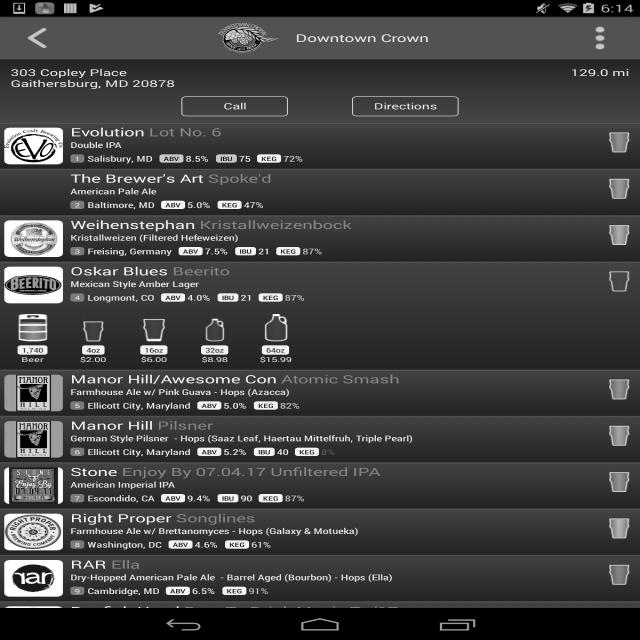Button: (181, 96, 288, 116), (352, 96, 459, 116)
ImageButton: (9, 23, 65, 53), (579, 23, 626, 53)
ImageView: (0, 59, 640, 608), (210, 23, 287, 53), (4, 220, 63, 257), (4, 421, 63, 458), (4, 467, 63, 504), (4, 560, 63, 597), (4, 128, 63, 164), (4, 267, 63, 303), (4, 375, 63, 411), (4, 514, 63, 550), (4, 606, 63, 640), (600, 124, 638, 154), (600, 170, 638, 200), (600, 216, 638, 246), (600, 262, 638, 292), (135, 312, 173, 342), (196, 312, 234, 342), (600, 370, 638, 400), (600, 417, 638, 447), (600, 464, 638, 494), (600, 510, 638, 540), (600, 556, 638, 586), (600, 602, 638, 632), (14, 312, 51, 342), (75, 312, 112, 342), (257, 312, 294, 342)
TextView: (11, 66, 443, 90), (71, 124, 598, 140), (71, 263, 598, 279), (71, 371, 598, 387), (71, 510, 598, 526), (71, 171, 598, 186), (71, 217, 598, 232), (71, 418, 598, 433), (71, 464, 598, 479), (71, 557, 598, 572), (71, 603, 598, 618), (70, 278, 593, 290), (70, 186, 593, 197), (70, 232, 593, 243), (70, 387, 593, 398), (70, 432, 593, 443), (70, 479, 593, 490), (70, 140, 593, 150), (70, 526, 593, 536), (70, 572, 593, 582), (444, 66, 629, 90), (296, 23, 430, 53), (87, 400, 191, 411), (87, 447, 191, 458), (88, 246, 172, 256), (88, 539, 162, 550), (88, 292, 154, 303), (88, 492, 154, 503), (88, 586, 160, 596), (88, 153, 153, 164), (88, 200, 154, 210), (18, 345, 48, 355), (260, 355, 292, 364), (140, 345, 168, 355), (201, 345, 228, 355), (262, 345, 289, 355), (187, 292, 210, 303), (187, 492, 210, 503), (195, 539, 218, 550), (186, 153, 208, 164), (224, 400, 246, 411), (224, 447, 246, 458), (80, 355, 106, 364), (141, 355, 167, 364), (202, 355, 228, 364), (187, 200, 210, 210), (205, 246, 228, 256), (82, 345, 105, 355), (192, 586, 215, 596), (283, 153, 303, 164), (280, 400, 300, 411), (251, 539, 271, 550), (257, 154, 281, 163), (161, 293, 185, 302), (258, 293, 282, 302), (198, 401, 222, 410), (254, 401, 278, 410), (168, 540, 192, 549), (225, 540, 249, 549), (285, 292, 304, 303), (285, 492, 304, 503), (160, 154, 183, 163), (21, 355, 44, 364), (161, 201, 185, 209), (218, 201, 242, 209), (178, 247, 202, 255), (276, 247, 300, 255), (198, 448, 222, 456), (295, 448, 319, 456), (161, 494, 185, 502), (258, 494, 282, 502), (166, 587, 190, 595), (222, 587, 246, 595), (244, 200, 263, 210), (303, 246, 322, 256), (249, 586, 268, 596), (216, 154, 237, 163), (218, 293, 238, 302), (235, 247, 256, 255), (254, 448, 275, 456), (218, 494, 238, 502), (321, 447, 335, 458), (239, 153, 251, 164), (70, 154, 84, 163), (70, 293, 84, 302), (70, 401, 84, 410), (70, 540, 84, 549), (241, 292, 252, 303), (277, 447, 288, 458), (241, 492, 252, 503), (258, 246, 270, 256), (70, 201, 84, 209), (70, 247, 84, 255), (70, 448, 84, 456), (70, 494, 84, 502), (70, 587, 84, 595)
